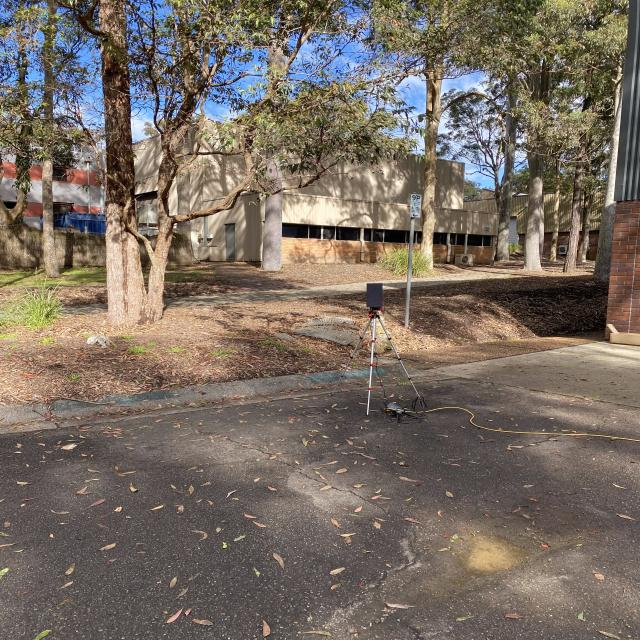matrix: (361, 280, 386, 309)
